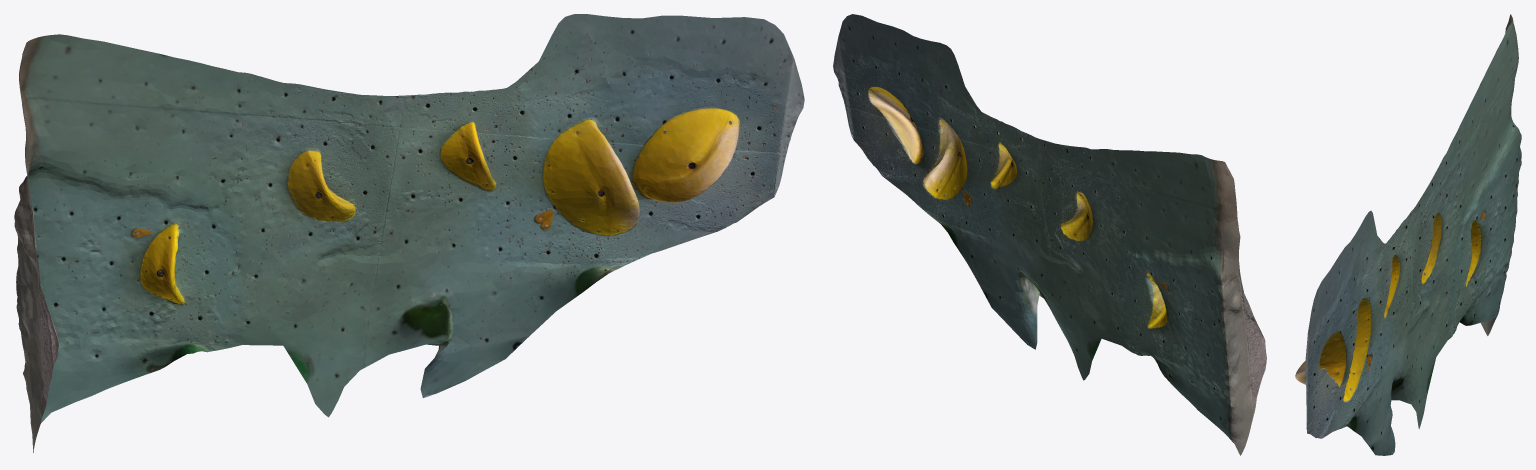
The model's file is mur.glb.
3 renders of one model, left to right at view 1: azimuth 30°, elevation 25°; view 2: azimuth 150°, elevation 25°; view 3: azimuth 270°, elevation 25°, orthographic. The views are drawn at different scales.
Bounding box in the file's own units: 5.41 × 3.13 × 1.97.
Materials: 1 (1 with a texture image).
